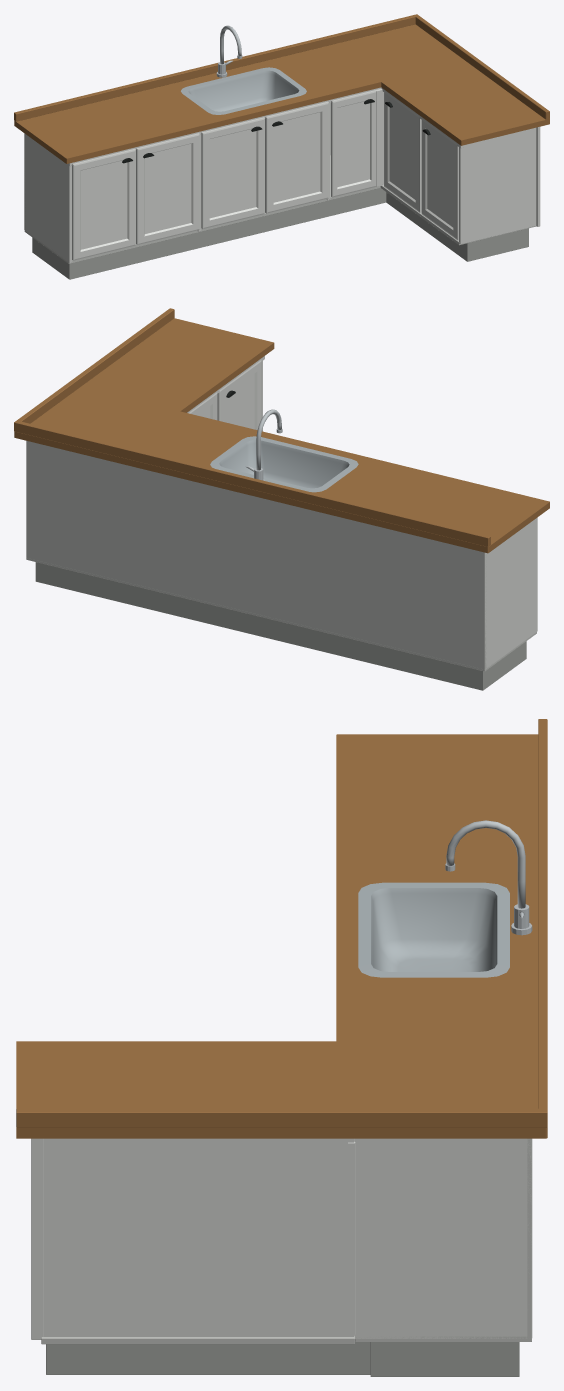
File: Mesada.fbx
3 renders of one model, top to bottom at view 1: azimuth 30°, elevation 25°; view 2: azimuth 150°, elevation 25°; view 3: azimuth 270°, elevation 25°, orthographic. The views are drawn at different scales.
Visible parts, largest first — view 1: Mesada en L - hueco central, Fondo final retorno, Puerta principal.002, Puerta principal, Puerta principal.003, Puerta principal.001, Zocalo principal, Lateral o divisor, Puerta principal - junto al rincon, Alzada trasera de madera, Puerta retorno.001, Puerta retorno (+8 smaller); view 2: Fondo del mueble, Mesada en L - hueco central, Zocalo principal, Lateral o divisor, Alzada trasera de madera, Bacha unica - acero, Puerta retorno.001, Alzada exterior del retorno, Piso del mueble; view 3: Mesada en L - hueco central, Costado exterior retorno, Lateral o divisor.003, Bacha unica - acero, Alzada exterior del retorno, Zocalo retorno, Zocalo principal, Alzada trasera de madera, Piso retorno, Cierre interior del rincon, Canilla - cuello de cisne, Fondo final retorno (+2 smaller).
Boxes of the visible parts, box(x1,y1,x2,y2) form: Mesada en L - hueco central: box(14, 24, 549, 163); Fondo final retorno: box(459, 127, 536, 244); Puerta principal.002: box(201, 117, 264, 229); Puerta principal: box(72, 148, 135, 260); Puerta principal.003: box(265, 101, 328, 213); Puerta principal.001: box(136, 133, 199, 244); Zocalo principal: box(32, 188, 386, 279); Lateral o divisor: box(24, 134, 72, 263); Puerta principal - junto al rincon: box(331, 90, 376, 197); Alzada trasera de madera: box(14, 14, 418, 121); Puerta retorno.001: box(421, 118, 458, 240); Puerta retorno: box(384, 91, 421, 212); Fondo del mueble: box(26, 441, 486, 669); Mesada en L - hueco central: box(14, 318, 549, 553); Zocalo principal: box(35, 562, 526, 690); Lateral o divisor: box(482, 517, 537, 669); Alzada trasera de madera: box(18, 421, 490, 546); Bacha unica - acero: box(210, 436, 358, 492); Puerta retorno.001: box(217, 360, 261, 429); Alzada exterior del retorno: box(14, 308, 174, 432); Piso del mueble: box(26, 558, 536, 671); Mesada en L - hueco central: box(16, 734, 547, 1138); Costado exterior retorno: box(31, 1138, 354, 1339); Lateral o divisor.003: box(354, 1138, 531, 1338); Bacha unica - acero: box(358, 882, 509, 977); Alzada exterior del retorno: box(16, 1108, 547, 1127); Zocalo retorno: box(46, 1342, 370, 1374); Zocalo principal: box(370, 1342, 519, 1376); Alzada trasera de madera: box(538, 719, 547, 1127); Piso retorno: box(41, 1336, 354, 1344); Cierre interior del rincon: box(348, 1141, 355, 1334); Canilla - cuello de cisne: box(446, 820, 525, 908); Fondo final retorno: box(37, 1138, 43, 1339).
Bounding box in the file's own units: 300 × 132 × 171.
